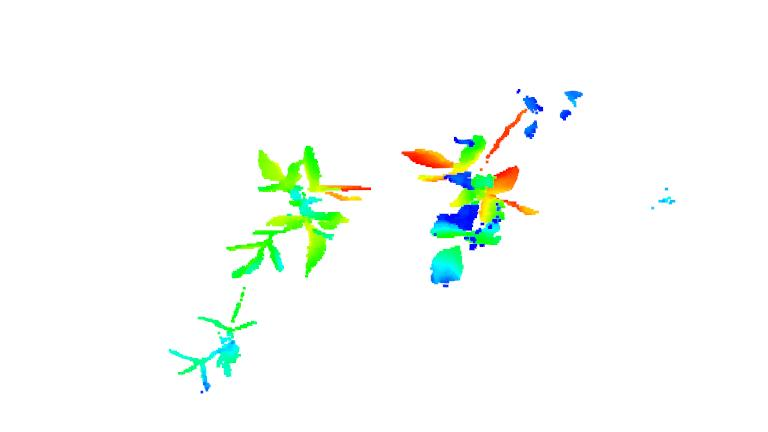mungbean: (397, 107, 534, 287), (227, 144, 369, 286), (166, 284, 259, 393)
